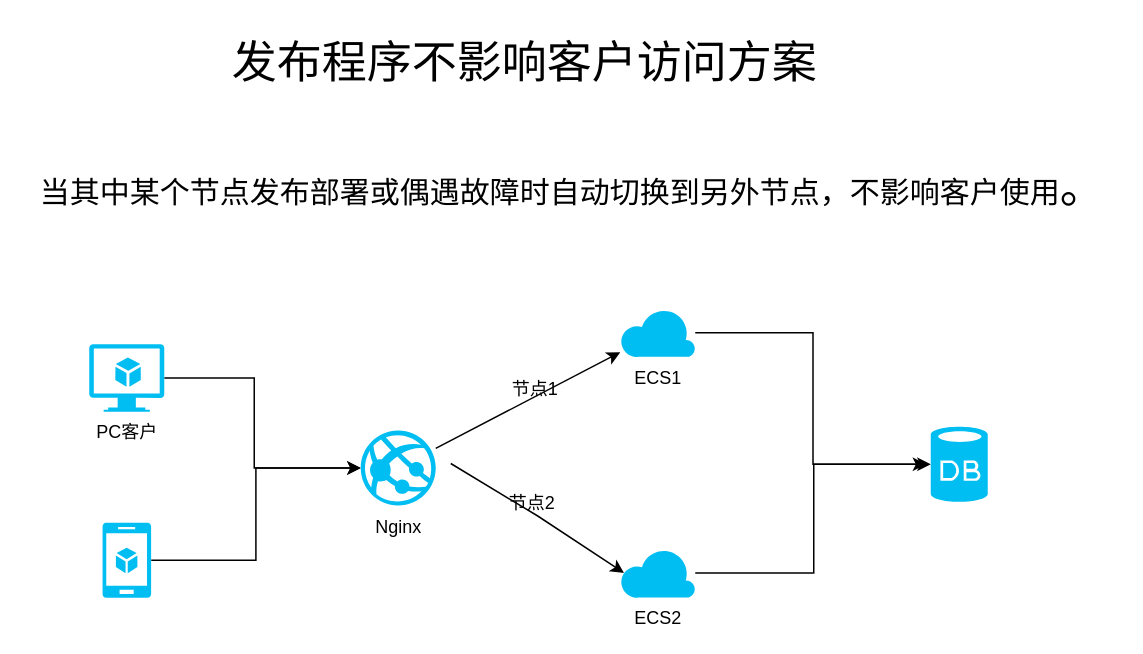
Some shapes in this 1143 by 654 pixel diagram are drawn without their labels. Each missing label, with the centre of its shape:
微信公众号: pixel 126 559
阿里云RDS: pixel 958 463
